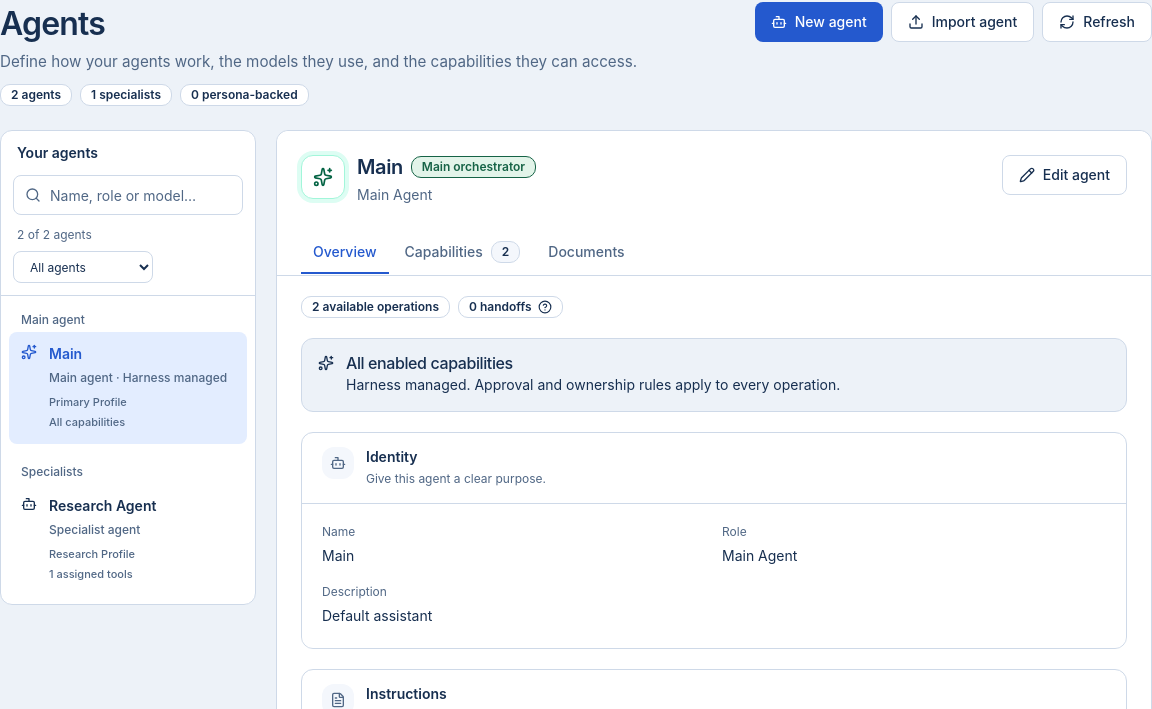
Scenario: AgentsWorkspace › shows assigned tools on agent cards before editing
Step 1. Click the button with aria-label "Inspect Research Agent" → (128, 540), box [9,484,247,596]
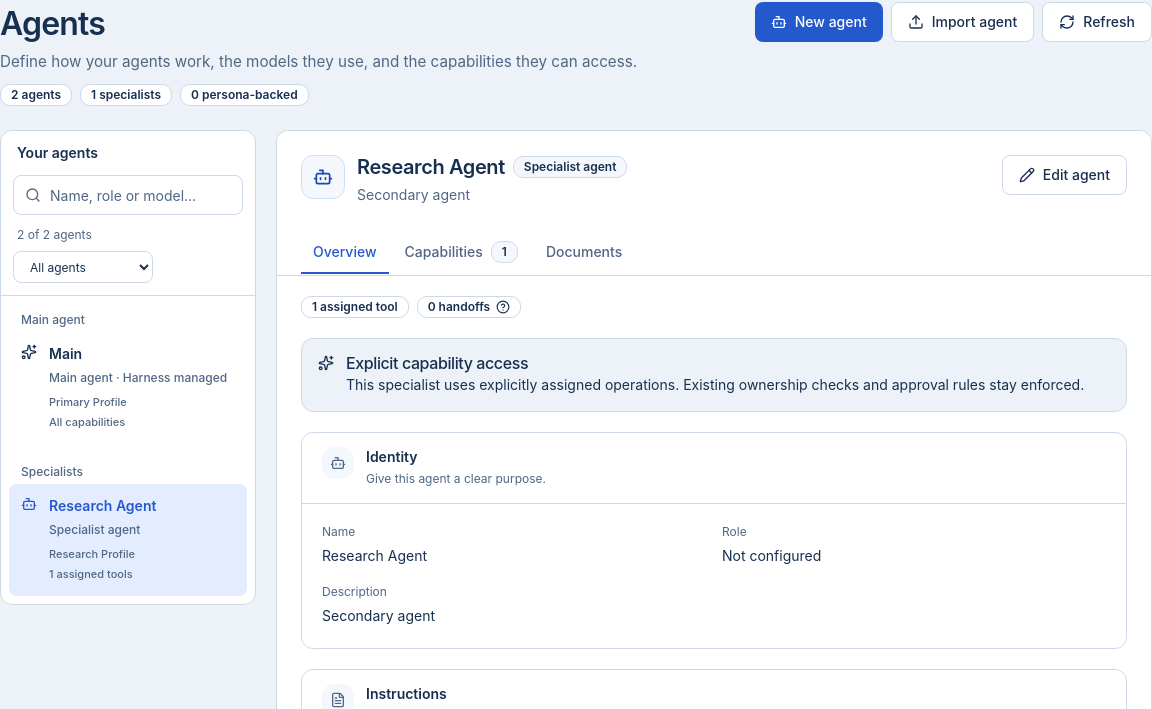
Step 2. Press the mouse on the tab "Capabilities 1" → (461, 253), box [392,231,530,275]
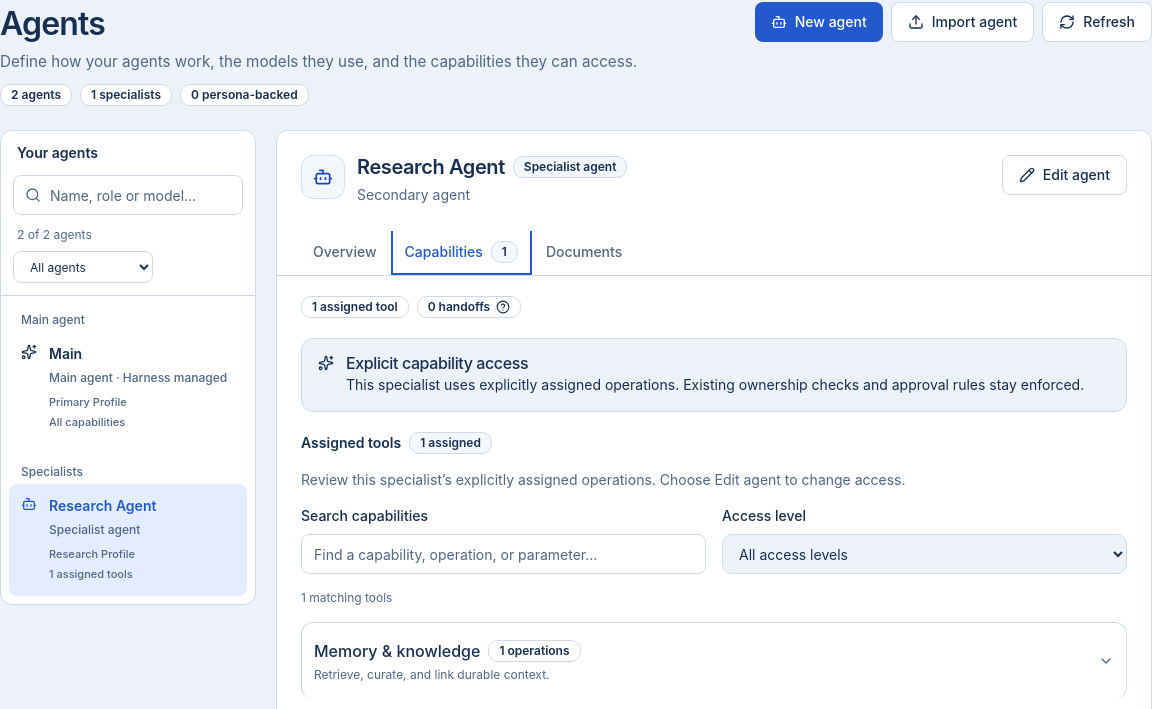
Now the text "Assigned tools" is shown, box [301,434,401,451]
Step 3. Click the button "Memory & knowledge" → (397, 651), box [314,623,1114,699]
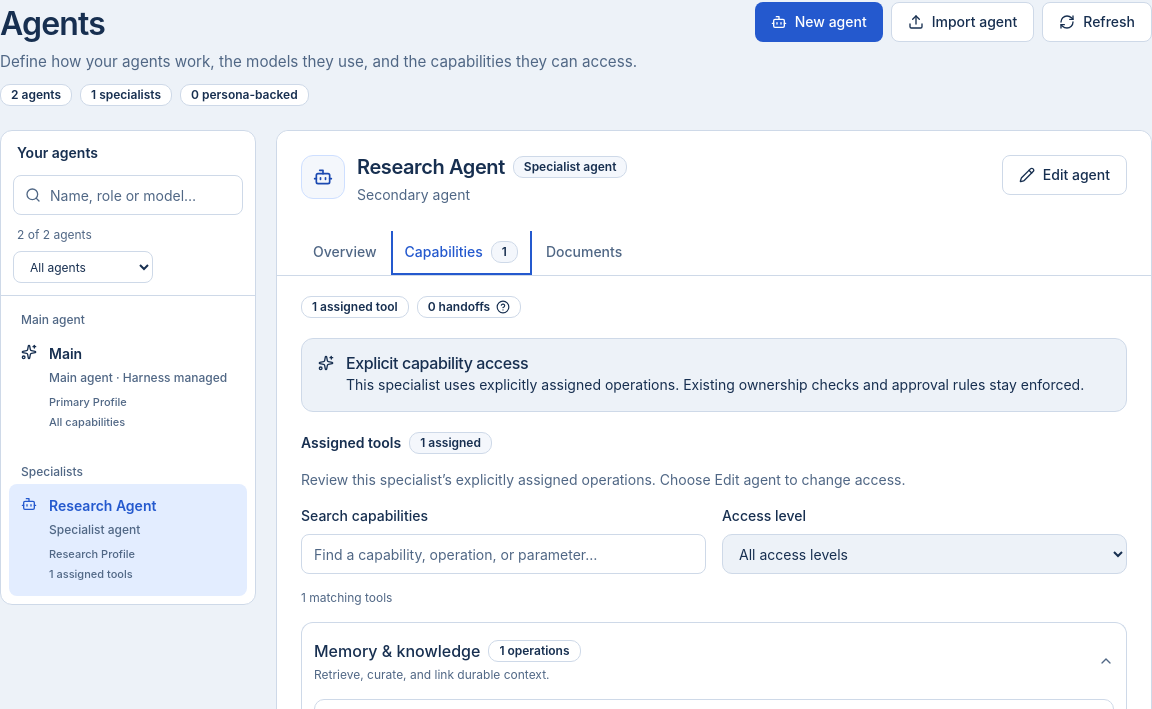
Step 4. Press the mouse on the tab "Documents" → (584, 253), box [534,232,634,274]
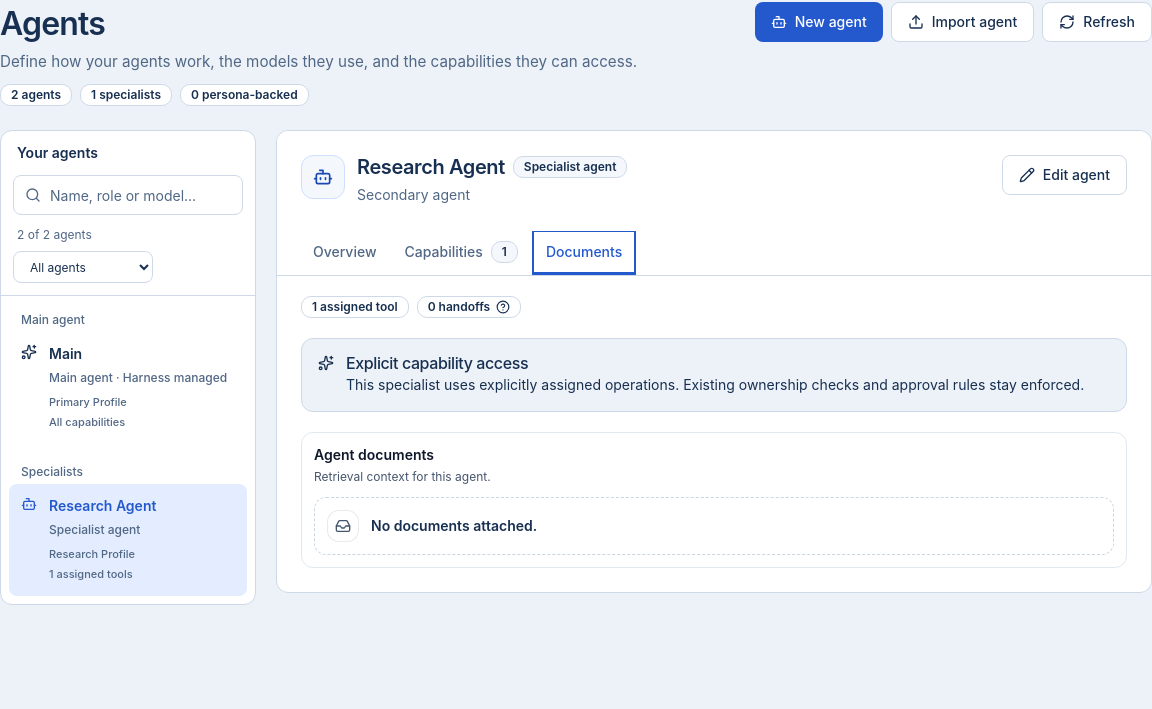
Now the text "No documents attached." is shown once, box [371,517,537,534]
Now the number of headings "Agent documents" is 1, box [314,446,434,463]
